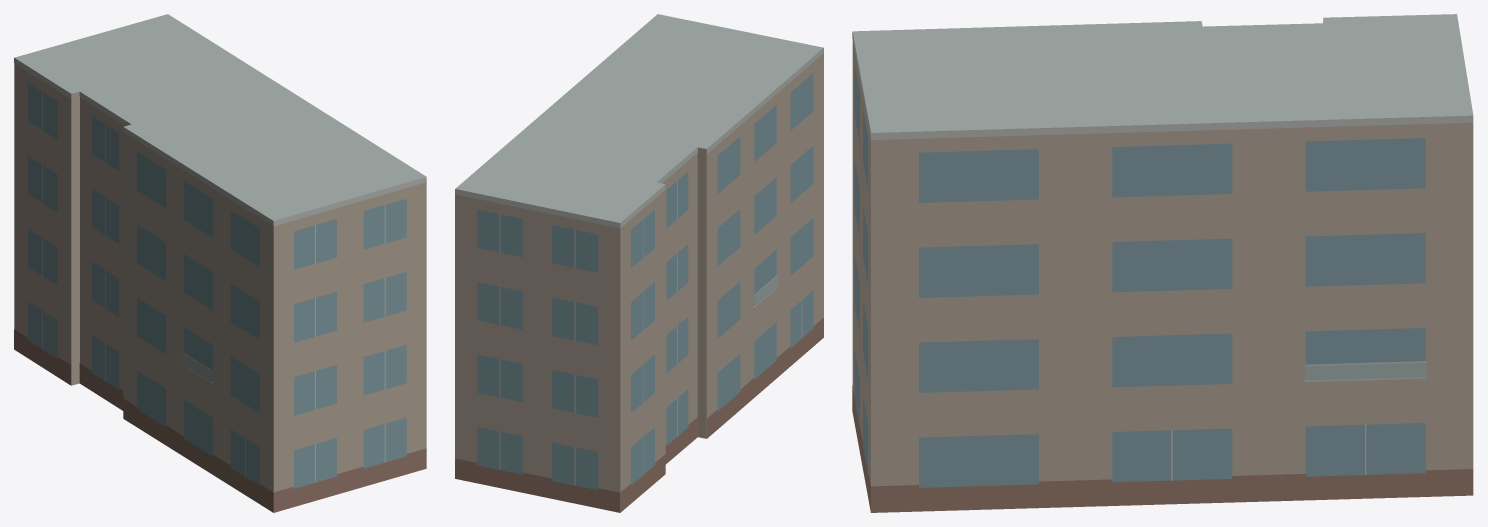
The model's file is survey-upis-32701364.glb.
3 views of the same model, side by side, from view 1: azimuth 30°, elevation 25°; view 2: azimuth 150°, elevation 25°; view 3: azimuth 270°, elevation 25° (orthographic). The views are drawn at different scales.
Visible parts, largest first — view 1: survey-upis-32701364.tmp; view 2: survey-upis-32701364.tmp; view 3: survey-upis-32701364.tmp.
Part boxes in pixels (left/top/right/bottom): survey-upis-32701364.tmp: left=14, top=14, right=426, bottom=512; survey-upis-32701364.tmp: left=455, top=14, right=823, bottom=512; survey-upis-32701364.tmp: left=852, top=14, right=1473, bottom=512.
Bounding box in the file's own units: 8.81 × 13.1 × 19.42.
